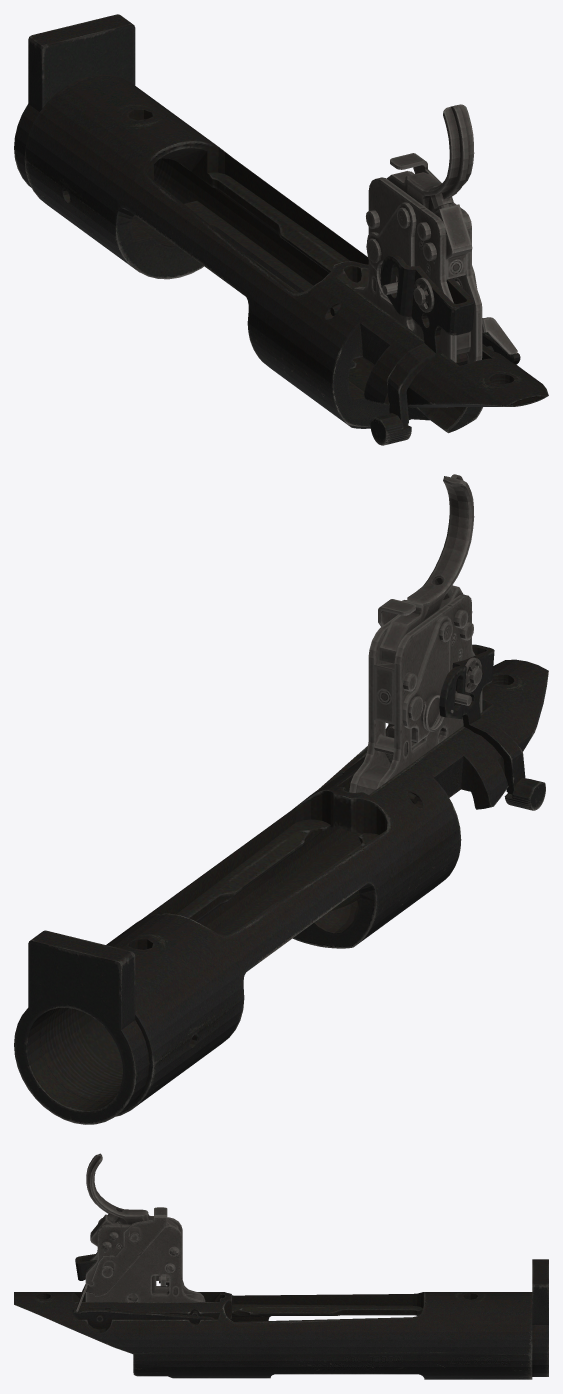
3 renders of one model, top to bottom at view 1: azimuth 30°, elevation 25°; view 2: azimuth 150°, elevation 25°; view 3: azimuth 270°, elevation 25°, orthographic. The views are drawn at different scales.
Parts seen in each view (by area): view 1: TW_5bfea6e90db834001b7347f3_PZ_Import; view 2: TW_5bfea6e90db834001b7347f3_PZ_Import; view 3: TW_5bfea6e90db834001b7347f3_PZ_Import.
Part boxes in pixels (x1,y1,x2,y2): TW_5bfea6e90db834001b7347f3_PZ_Import: (14, 14, 548, 445); TW_5bfea6e90db834001b7347f3_PZ_Import: (14, 474, 548, 1124); TW_5bfea6e90db834001b7347f3_PZ_Import: (14, 1153, 548, 1379).
Bounding box in the file's own units: 0.022 × 0.1193 × 0.0545.
1 material, 1 textured.
